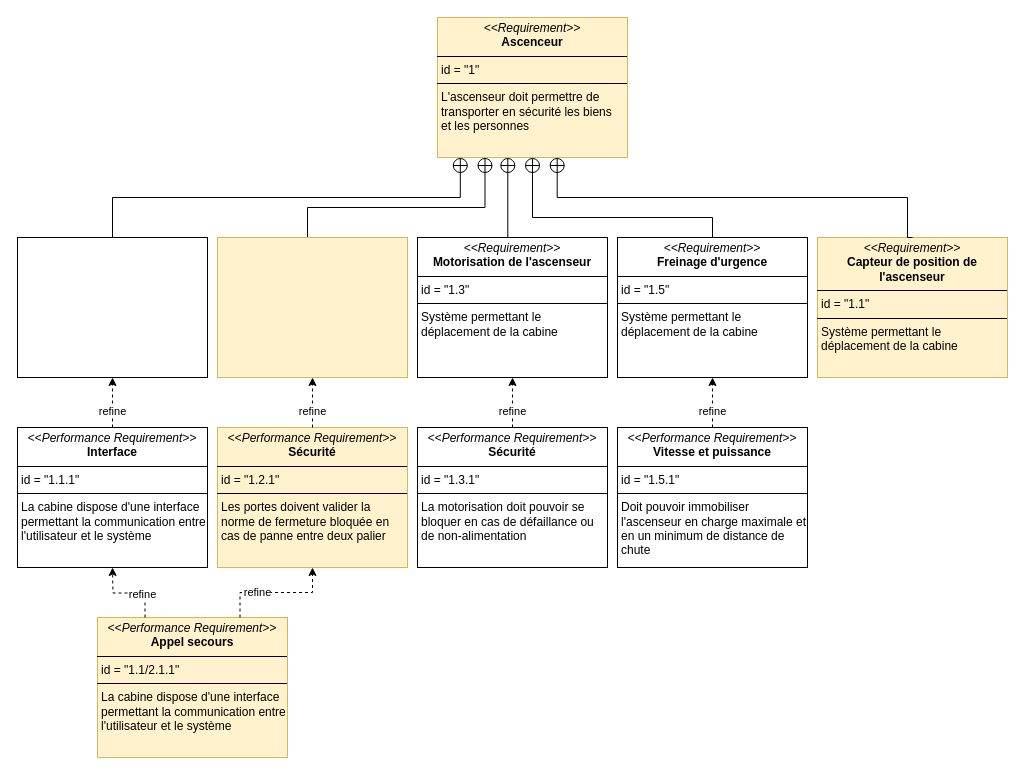
Image size: 1025x775. Some labels were removed from this diagram. Each missing label, with the centre of its shape:
<<Requirement>> Cabine id = "1.1" Cabine permettant de lever 675kg.: (x=112, y=307)
<<Requirement>> Portes id = "1.2" Portes permettant de fermer la cabine: (x=312, y=307)
